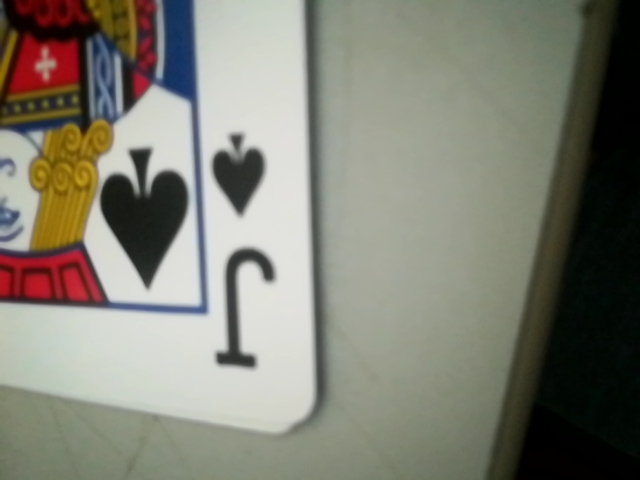ht j: (193, 113, 276, 369)
